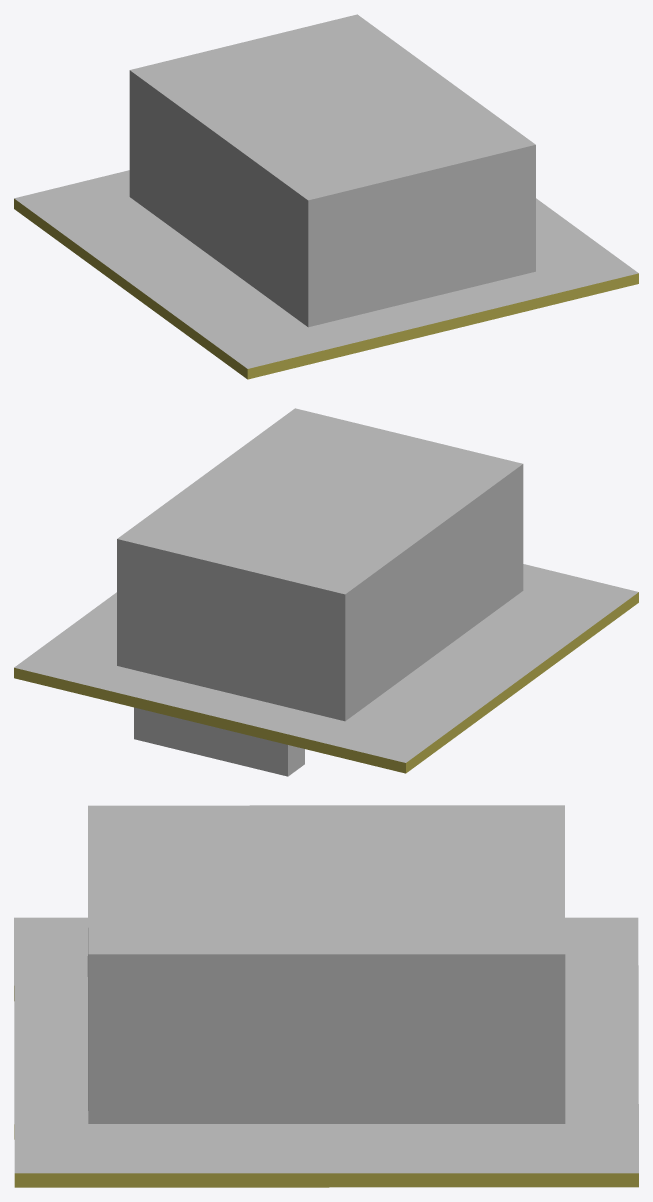
3 renders of one model, top to bottom at view 1: azimuth 30°, elevation 25°; view 2: azimuth 150°, elevation 25°; view 3: azimuth 270°, elevation 25°, orthographic. The views are drawn at different scales.
Parts seen in each view (by area): view 1: nervure wall sconce by hampstead lighting color green; view 2: nervure wall sconce by hampstead lighting color green; view 3: nervure wall sconce by hampstead lighting color green.
Part boxes in pixels (box(x1,y1,x2,y2)): nervure wall sconce by hampstead lighting color green: box(14, 14, 638, 379); nervure wall sconce by hampstead lighting color green: box(14, 408, 638, 776); nervure wall sconce by hampstead lighting color green: box(14, 805, 638, 1187).
Size of the model in its own units: 9.7 by 4 by 10.01.
